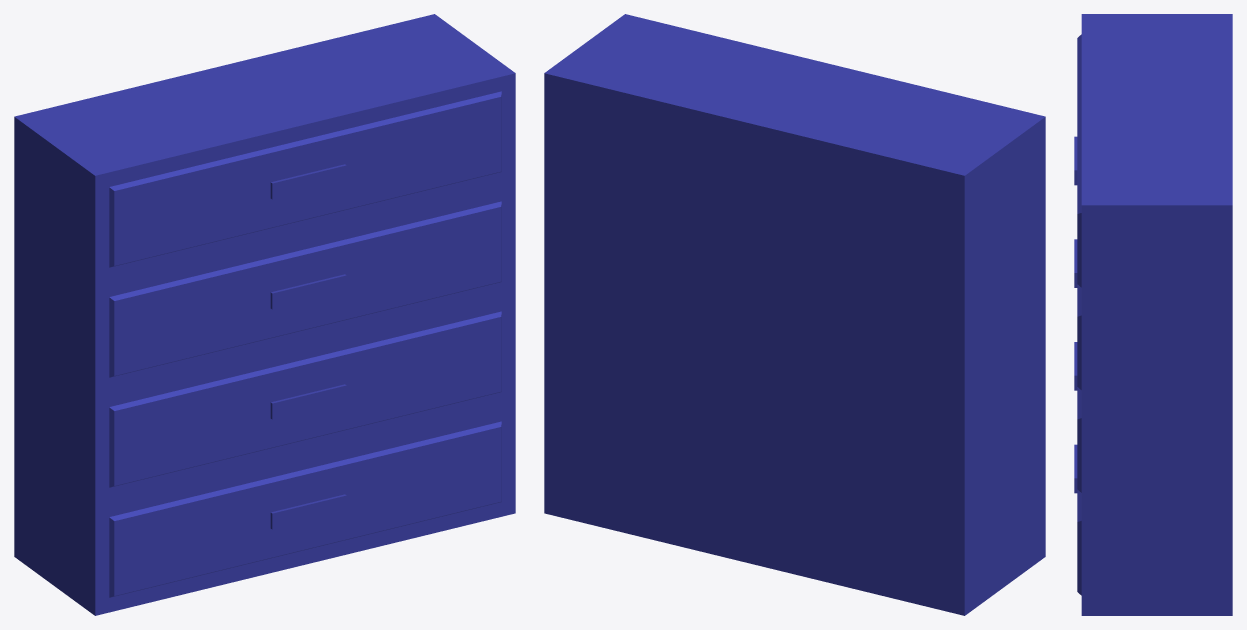
The model's file is storageC_1x3x3.FBX.
The picture shows the model from 3 angles, left to right: view 1: azimuth 30°, elevation 25°; view 2: azimuth 150°, elevation 25°; view 3: azimuth 270°, elevation 25°; orthographic projection. The views are drawn at different scales.
Visible parts, largest first — view 1: storageC_1x3x3; view 2: storageC_1x3x3; view 3: storageC_1x3x3.
Boxes of the visible parts, x1,y1,x2,y2 form: storageC_1x3x3: (14,14,515,615); storageC_1x3x3: (544,14,1045,615); storageC_1x3x3: (1074,14,1232,615).
Bounding box in the file's own units: 3 × 3 × 1.05.
